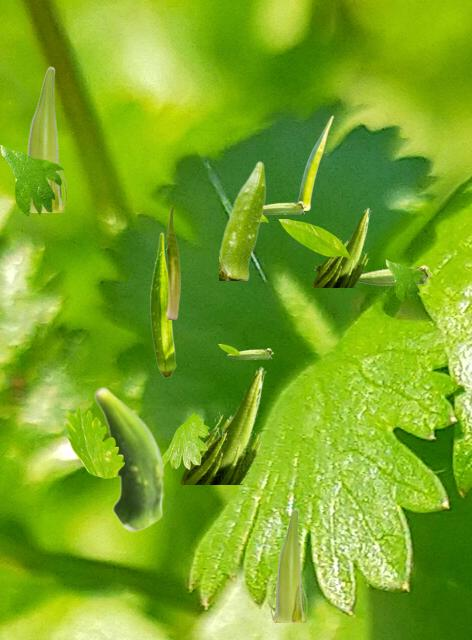okra: (93, 386, 164, 531), (179, 366, 265, 483), (27, 66, 65, 211), (219, 160, 265, 279), (311, 207, 370, 286), (270, 508, 306, 621), (150, 232, 175, 377), (298, 115, 332, 209), (166, 205, 179, 318), (358, 265, 431, 284), (264, 201, 305, 213), (227, 348, 272, 358)
